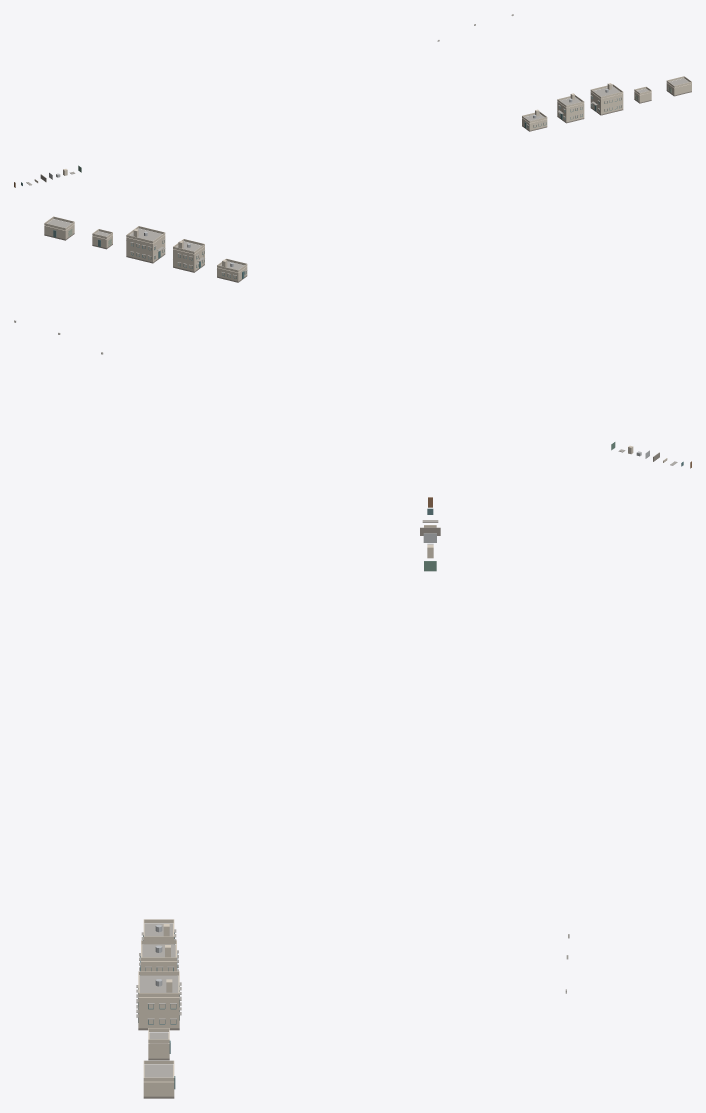
Rendered from reusable_library.glb.
3 views of the same model, one above another, from view 1: azimuth 30°, elevation 25°; view 2: azimuth 150°, elevation 25°; view 3: azimuth 270°, elevation 25° (orthographic). The views are drawn at different scales.
Parts seen in each view (by area): view 1: lib_urban, lib_house2, lib_house1, lib_commercial; view 2: lib_urban, lib_house2, lib_house1, lib_commercial; view 3: lib_urban, lib_house2, lib_commercial.
Part boxes in pixels (box(x1,y1,x2,y2)): lib_urban: box(511, 14, 623, 115); lib_house2: box(474, 24, 584, 123); lib_house1: box(437, 40, 547, 131); lib_commercial: box(666, 76, 691, 96); lib_urban: box(14, 226, 165, 322); lib_house2: box(58, 239, 204, 334); lib_house1: box(101, 258, 247, 354); lib_commercial: box(44, 216, 74, 240); lib_urban: box(136, 971, 566, 1030); lib_house2: box(139, 940, 568, 975); lib_commercial: box(143, 1060, 175, 1098).
Size of the model in its own units: 268 by 9.31 by 82.99.
